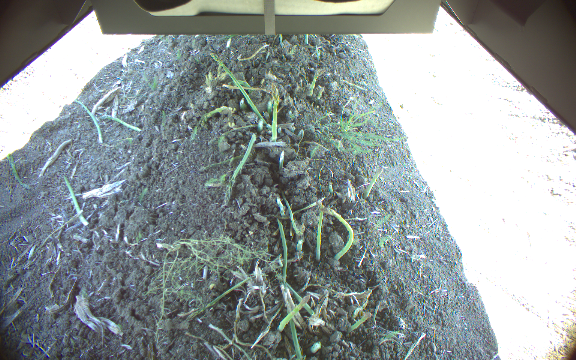aspa: (208, 51, 265, 124), (327, 205, 355, 266), (275, 294, 312, 333), (360, 166, 384, 200), (268, 82, 281, 142), (346, 310, 372, 334), (314, 208, 325, 263), (306, 69, 325, 98)
